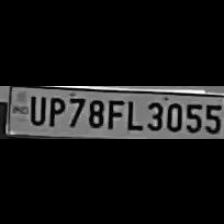0: (164, 99, 182, 131)
3: (143, 97, 163, 131)
5: (182, 100, 202, 132), (203, 101, 221, 133)
7: (64, 94, 84, 128)
8: (84, 95, 104, 129)
F: (105, 96, 123, 130)
L: (123, 96, 141, 132)
P: (44, 94, 64, 128)
U: (26, 94, 44, 126)
